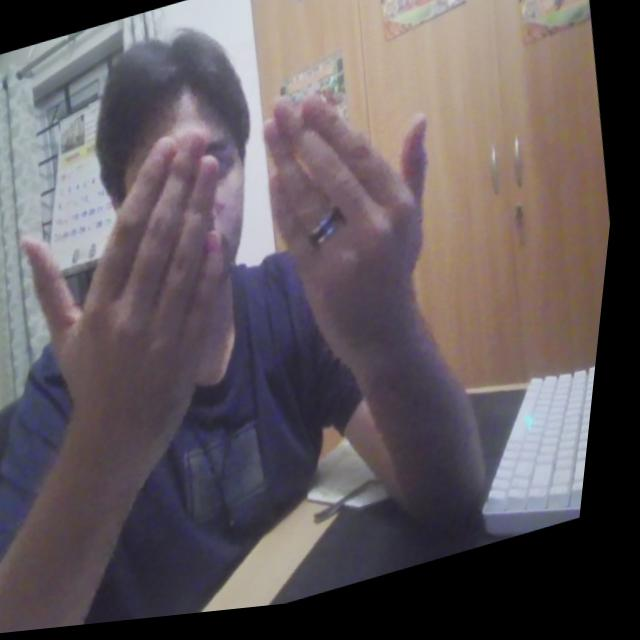thankyou: (0, 51, 503, 512)
